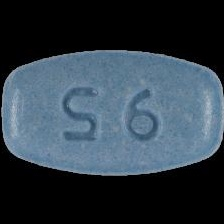50268-088: (0, 0, 224, 224)
